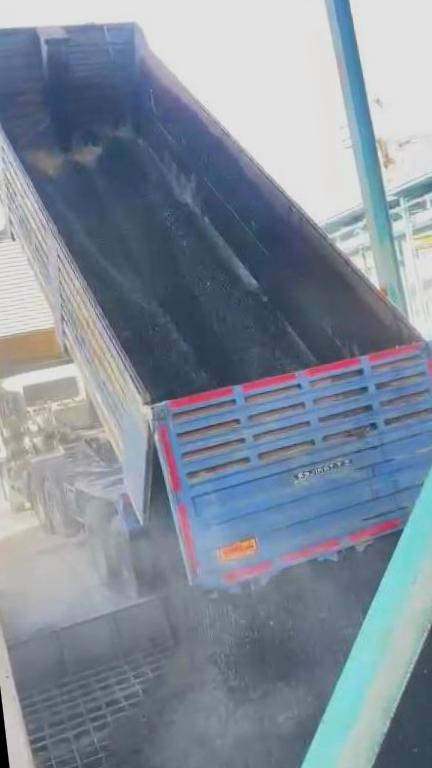gravel: (30, 136, 303, 402), (111, 541, 391, 768), (353, 560, 432, 768)
